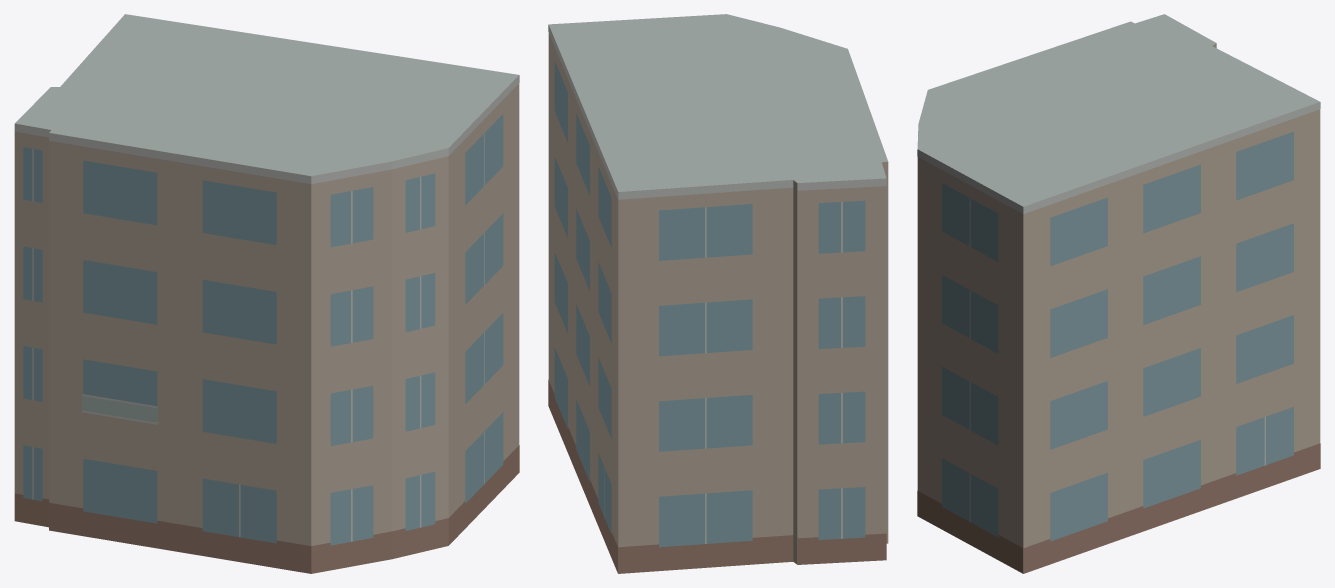
The model's file is survey-upis-33015356.glb.
The picture shows the model from 3 angles, left to right: view 1: azimuth 30°, elevation 25°; view 2: azimuth 150°, elevation 25°; view 3: azimuth 270°, elevation 25°; orthographic projection. The views are drawn at different scales.
Parts seen in each view (by area): view 1: survey-upis-33015356.tmp; view 2: survey-upis-33015356.tmp; view 3: survey-upis-33015356.tmp.
Boxes of the visible parts, x1=… form: survey-upis-33015356.tmp: x1=14, y1=14, x2=519, y2=573; survey-upis-33015356.tmp: x1=548, y1=14, x2=888, y2=573; survey-upis-33015356.tmp: x1=917, y1=14, x2=1320, y2=573.
Size of the model in its own units: 13.76 by 12.2 by 12.15.
